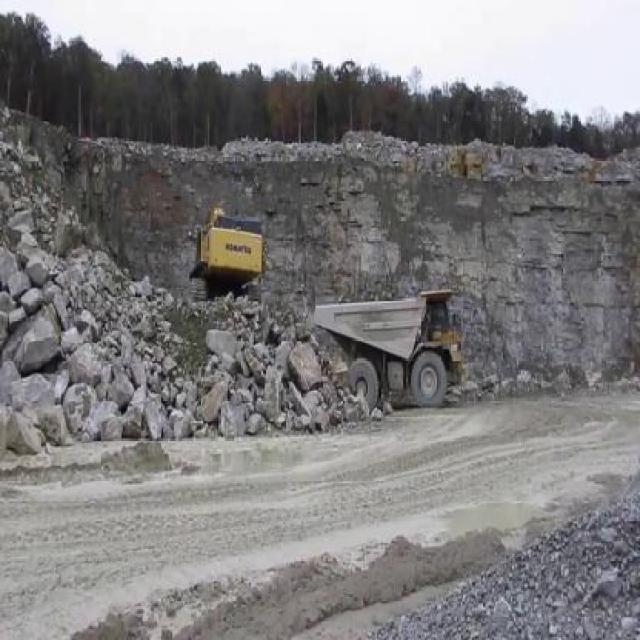Dump Truck: (310, 285, 462, 409)
Excavator: (182, 201, 267, 302)
